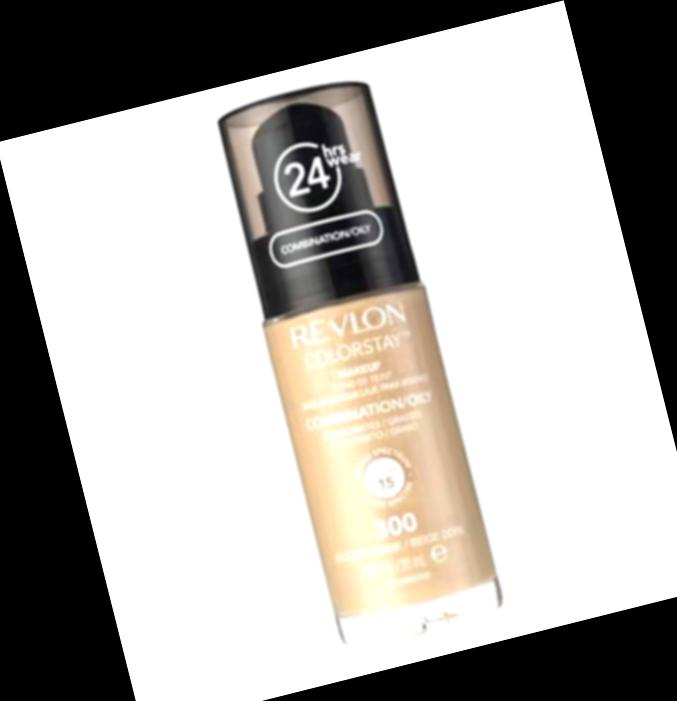cosmetic: (207, 71, 508, 646)
